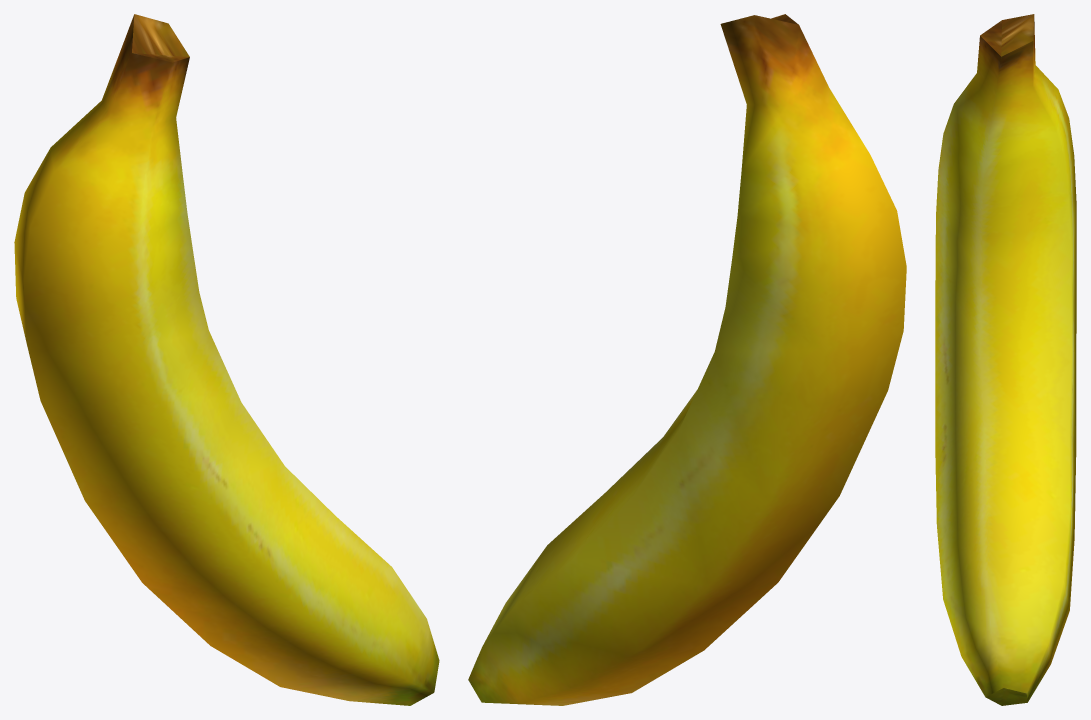
The model's file is banana.obj.
3 renders of one model, left to right at view 1: azimuth 30°, elevation 25°; view 2: azimuth 150°, elevation 25°; view 3: azimuth 270°, elevation 25°, orthographic. The views are drawn at different scales.
Visible parts, largest first — view 1: banana_0; view 2: banana_0; view 3: banana_0.
Part boxes in pixels (left/top/right/bottom): banana_0: left=14, top=14, right=439, bottom=705; banana_0: left=468, top=14, right=906, bottom=705; banana_0: left=935, top=14, right=1076, bottom=705.
Bounding box in the file's own units: 20.16 × 34.38 × 7.45.
